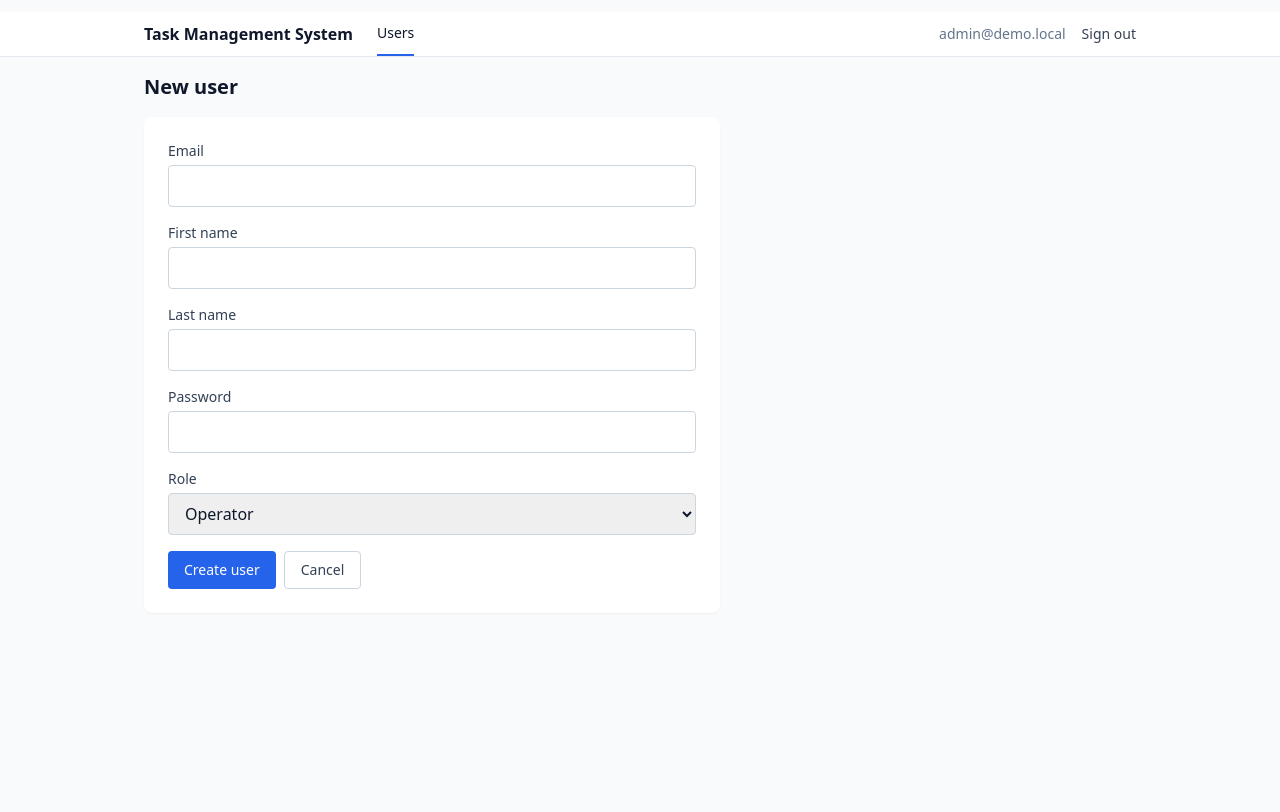
Test case: UserForm › surfaces a 400 email_already_in_use against the email field
Type "dupe@demo.local" into the field labelled "Email" at (432, 186), box [168,165,696,207]
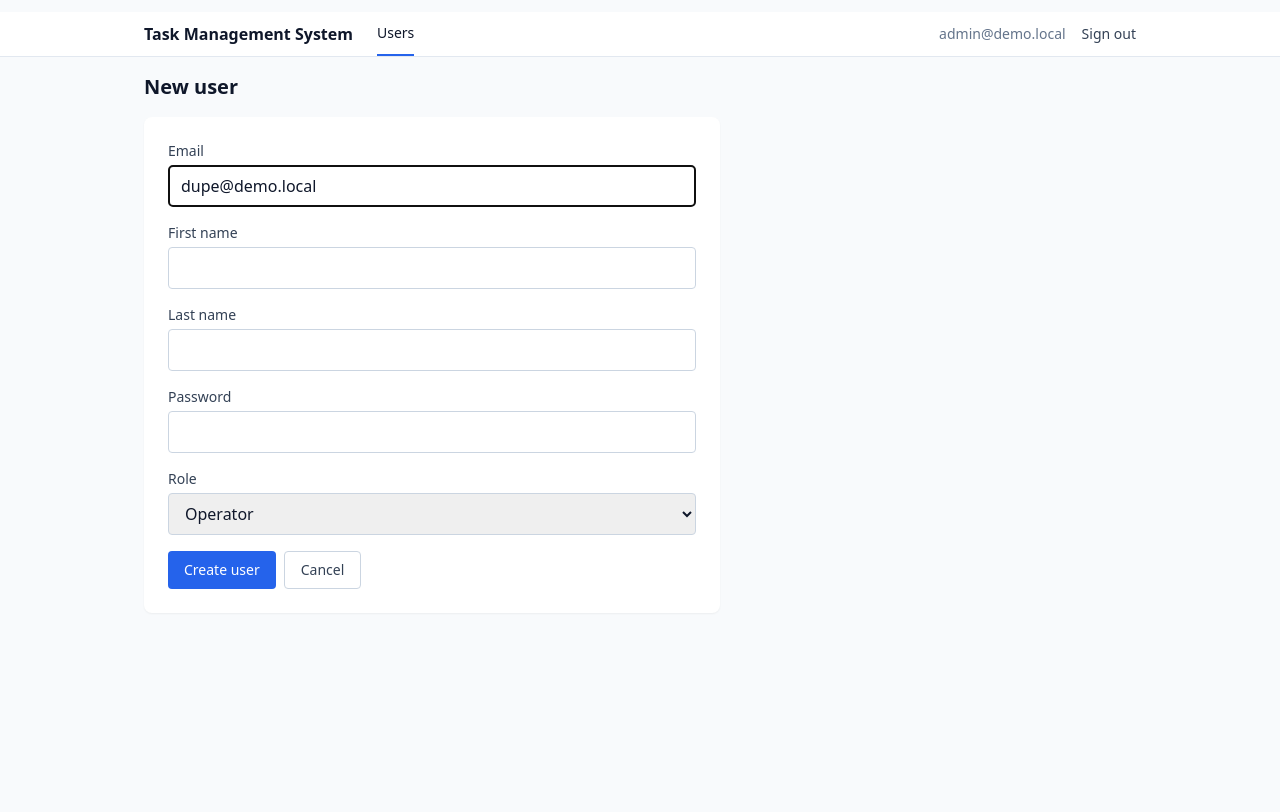
Type "D" into the field labelled "First name" at (432, 268), box [168,247,696,289]
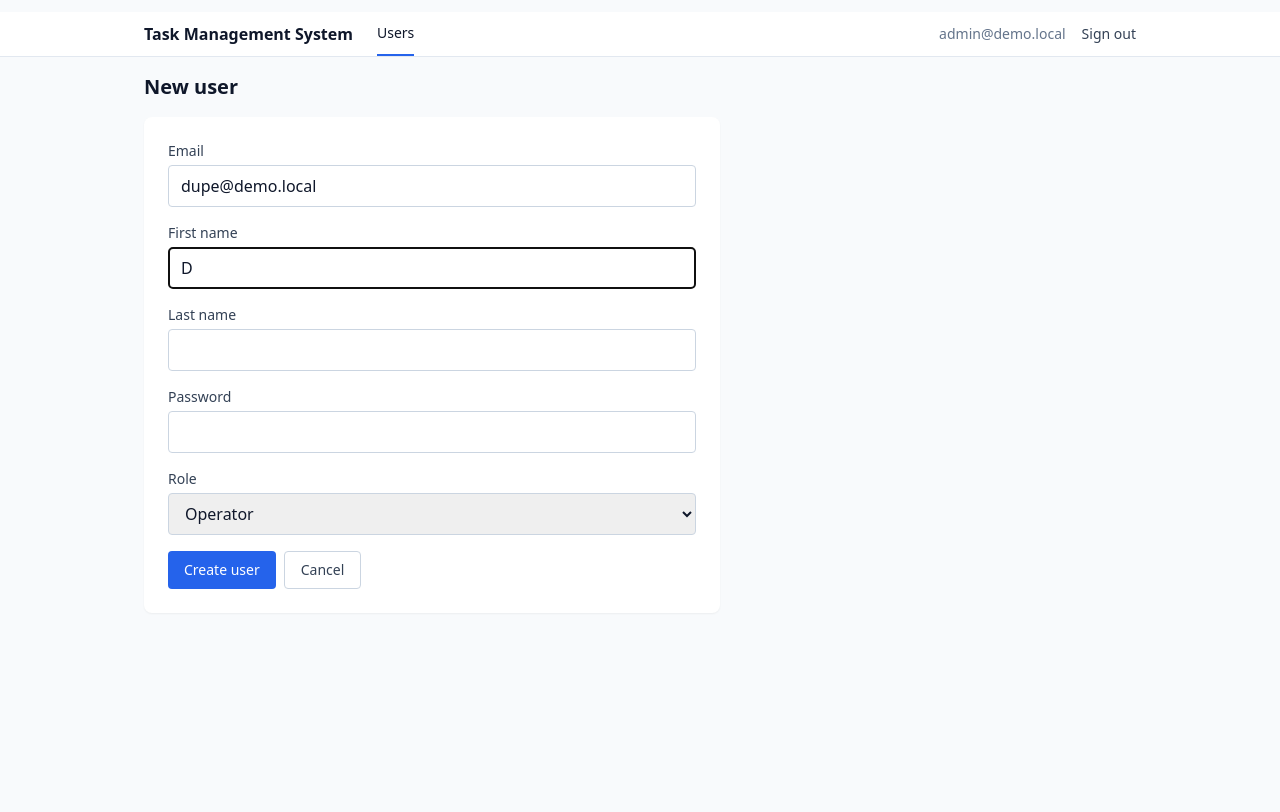
Type "Upe" into the field labelled "Last name" at (432, 350), box [168,329,696,371]
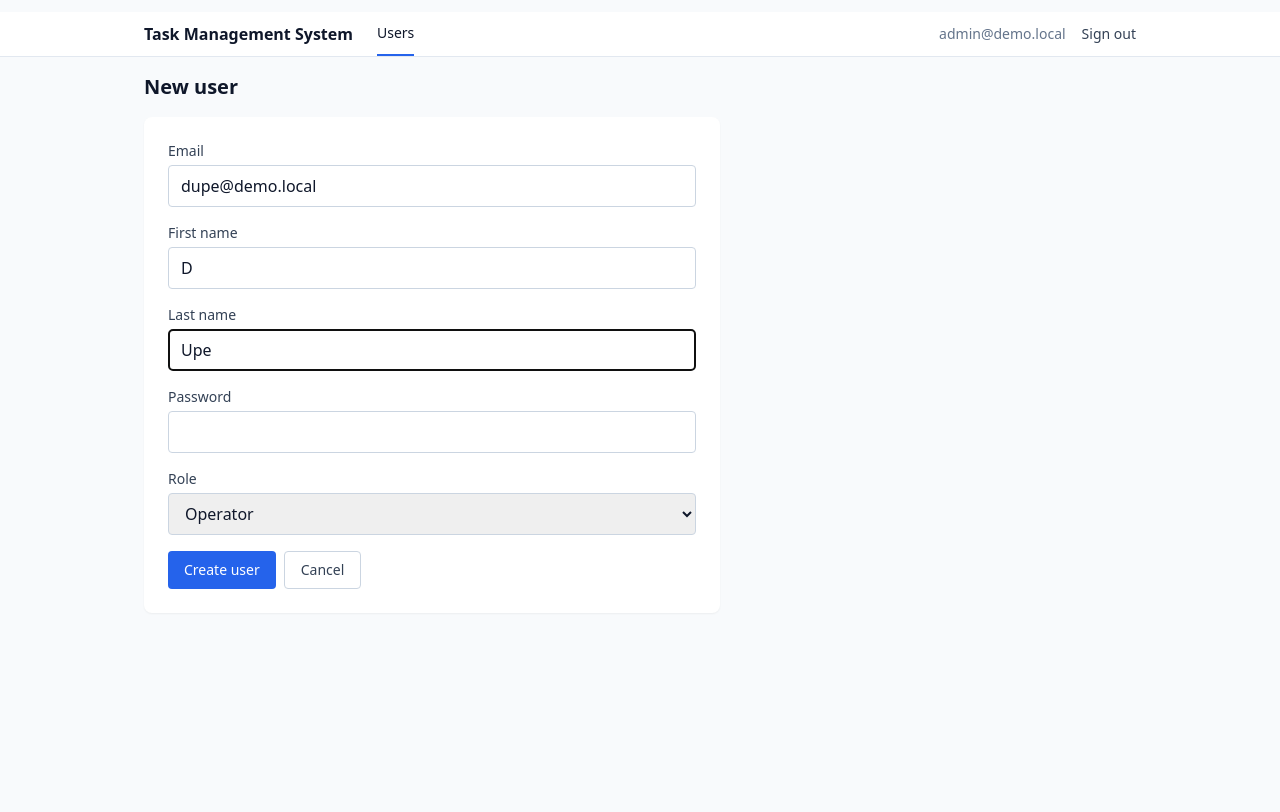
Type "a-strong-password-1" into the password field labelled "Password" at (432, 432), box [168,411,696,453]
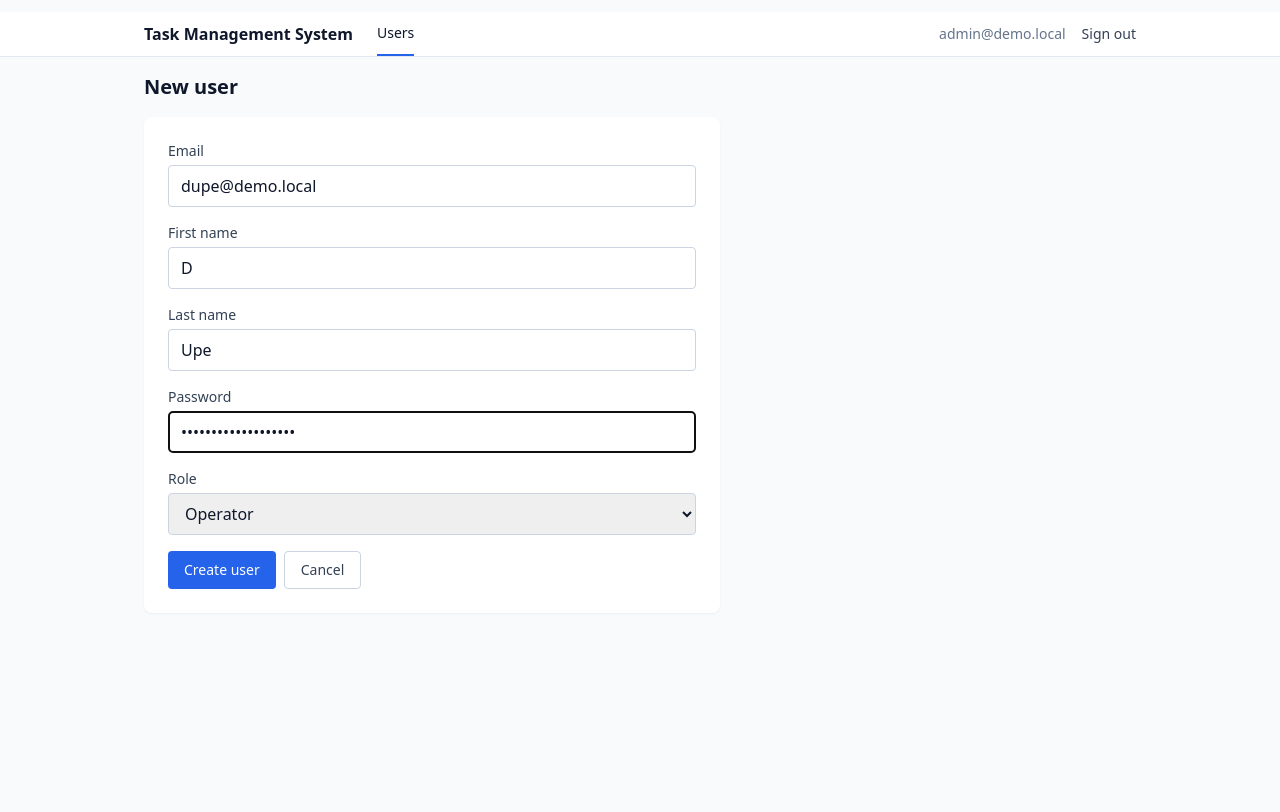
Click the button "Create user" at (222, 570), box [168,551,276,589]
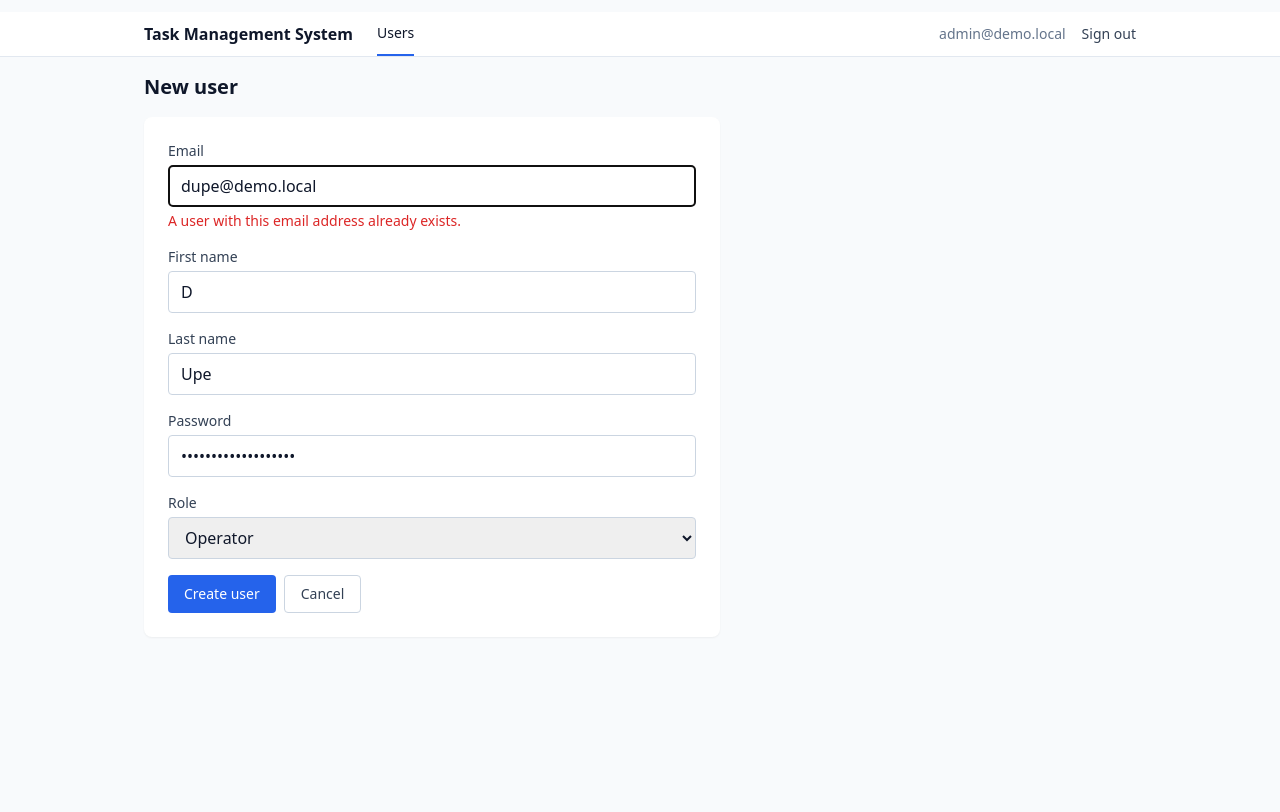
Check: the text "A user with this email address already exists." is shown, box [168,211,461,230]
